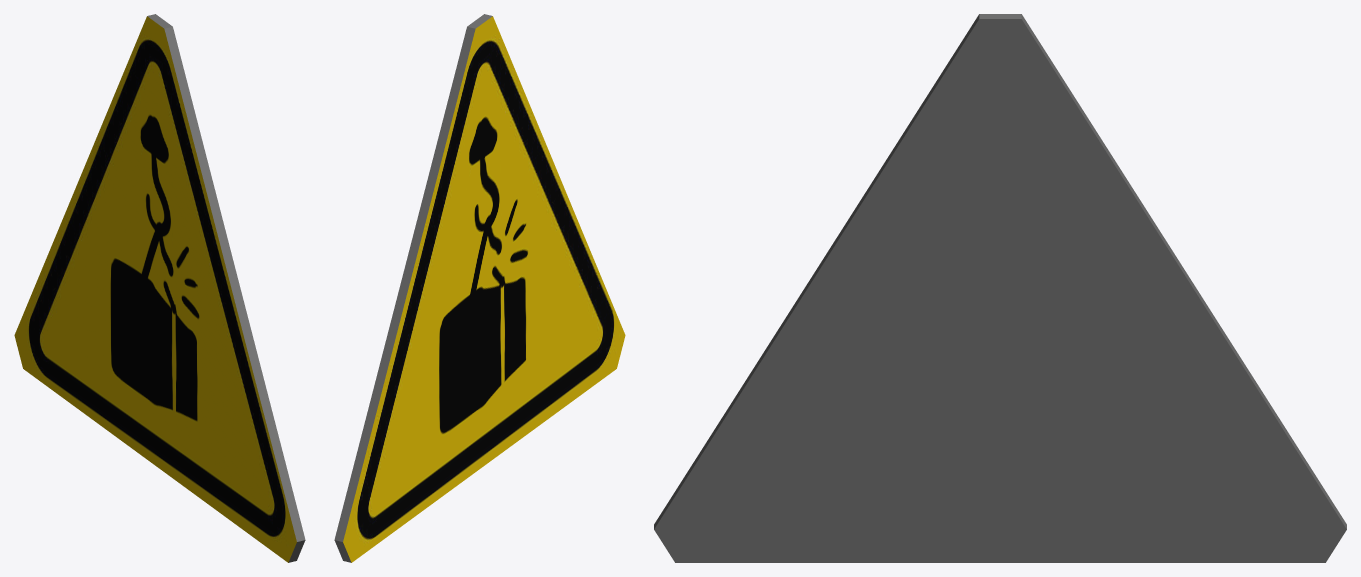
File: sign_triangle.fbx
3 views of the same model, side by side, from view 1: azimuth 30°, elevation 25°; view 2: azimuth 150°, elevation 25°; view 3: azimuth 270°, elevation 25° (orthographic). The views are drawn at different scales.
Visible parts, largest first — view 1: sign_triangle; view 2: sign_triangle; view 3: sign_triangle.
Part boxes in pixels (x1=…): sign_triangle: x1=14, y1=14, x2=305, y2=562; sign_triangle: x1=334, y1=14, x2=625, y2=562; sign_triangle: x1=654, y1=14, x2=1346, y2=562.
Bounding box in the file's own units: 4 × 198 × 228.
